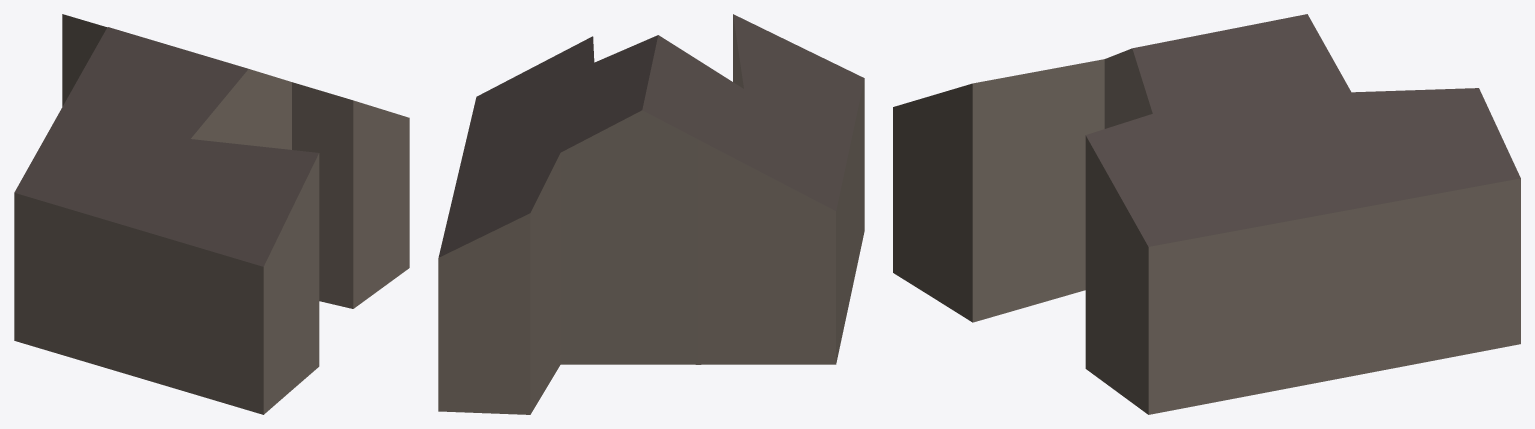
The picture shows the model from 3 angles, left to right: view 1: azimuth 30°, elevation 25°; view 2: azimuth 150°, elevation 25°; view 3: azimuth 270°, elevation 25°; orthographic projection. The views are drawn at different scales.
Parts seen in each view (by area): view 1: HP-w1513026722; view 2: HP-w1513026722; view 3: HP-w1513026722.
Part boxes in pixels (x1,y1,x2,y2): HP-w1513026722: (14,14,409,414); HP-w1513026722: (438,14,864,414); HP-w1513026722: (893,14,1520,414).
Bounding box in the file's own units: 23.61 × 14.92 × 30.9.
